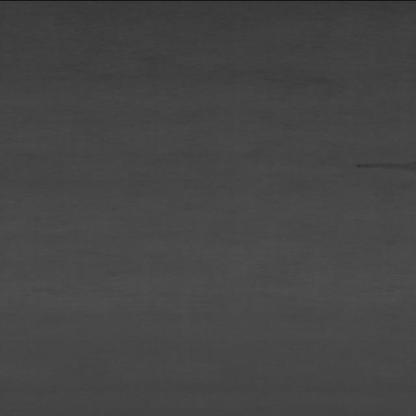water_spot: (328, 140, 416, 177)
